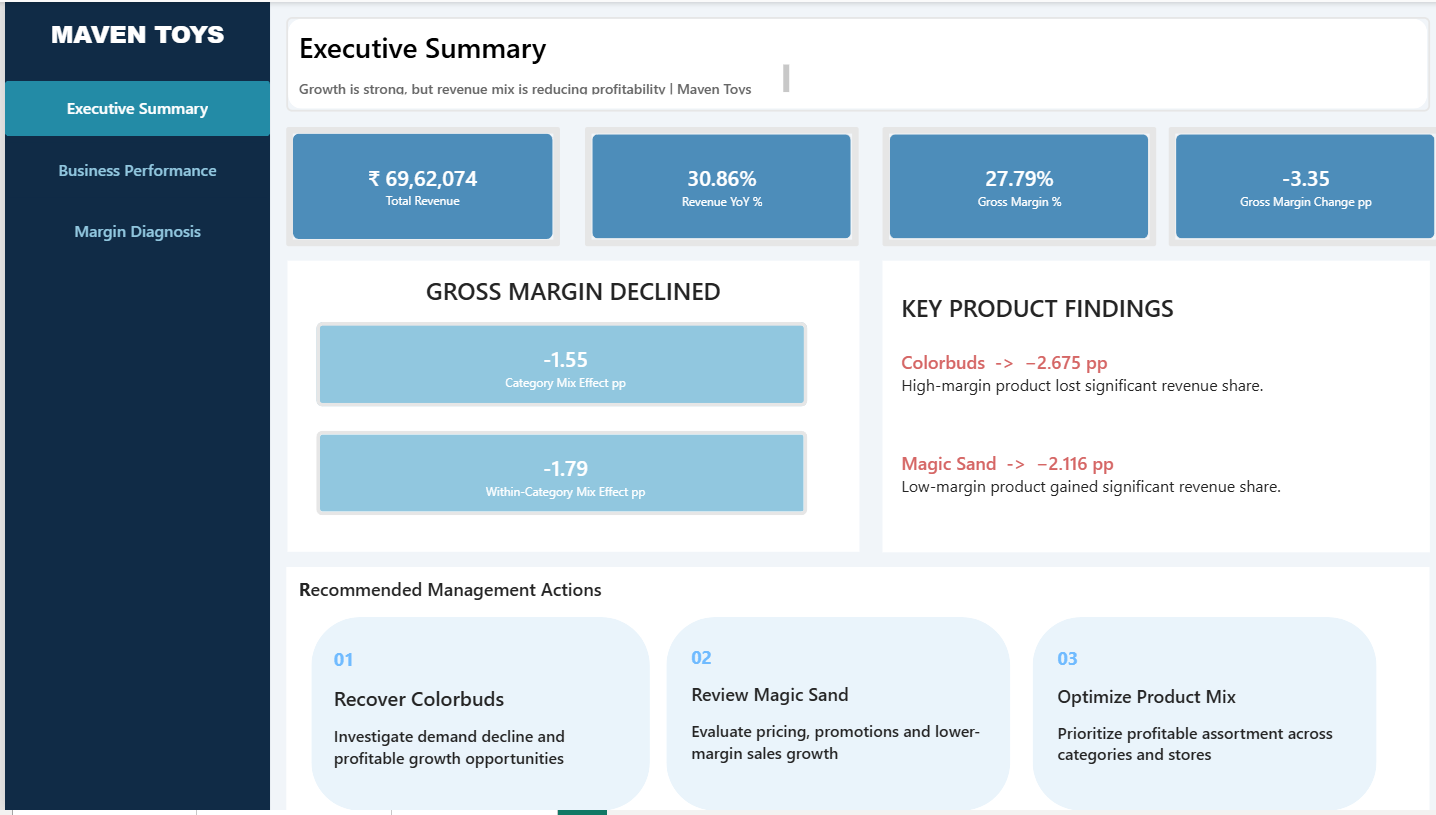

The page's visual inventory and layout, read from the dashboard file:
{"tool":"powerbi","page":{"name":"Executive Summary","canvas":[1920,1080],"ordinal":0},"visuals":[{"type":"shape","box":[0,0,354,1080.6],"z":0},{"type":"shape","box":[376.2,20.7,1527.7,126.1],"z":1000},{"type":"cardVisual","fields":{"Data":["Measures (2).Total Revenue"]},"box":[376.2,167.4,365.9,159.2],"z":2000},{"type":"cardVisual","fields":{"Data":["Measures (2).Revenue YoY %"]},"box":[775.2,167.4,365.9,159.2],"z":3000},{"type":"cardVisual","fields":{"Data":["Measures (2).Gross Margin Change pp"]},"box":[1554.5,167.4,365.9,159.2],"z":4000},{"type":"cardVisual","fields":{"Data":["Measures (2).Gross Margin %"]},"box":[1172.1,167.4,365.9,159.2],"z":5000},{"type":"textbox","title":"GROSS MARGIN DECLINED","box":[376.7,345.8,763.6,389],"z":6000},{"type":"cardVisual","fields":{"Data":["Measures (2).Category Mix Effect pp"]},"box":[415.8,428.1,656.6,113.2],"z":6001},{"type":"cardVisual","fields":{"Data":["Measures (2).Within-Category Mix Effect pp"]},"box":[416.2,572.8,656.6,113.2],"z":6002},{"type":"shape","box":[1172.4,346.2,731.5,389.4],"z":6003},{"type":"textbox","box":[1197.2,366.8,682,344.1],"z":6004},{"type":"shape","box":[376.4,754.6,1527.4,325.7],"z":6006},{"type":"textbox","box":[392.7,767.3,747.4,54.3],"z":6007},{"type":"shape","box":[409,821.6,452.4,258.8],"z":6008},{"type":"shape","box":[883.1,821.6,459.7,258.8],"z":6009},{"type":"shape","box":[1371.7,821.6,459.7,258.8],"z":6010},{"type":"textbox","box":[436.1,841.5,390.9,226.2],"z":6011},{"type":"textbox","box":[436.1,841.5,390.9,226.2],"z":6012},{"type":"textbox","box":[439.7,843.3,390.9,226.2],"z":6013},{"type":"textbox","box":[917.5,839.7,390.9,226.2],"z":6014},{"type":"textbox","box":[1406.1,841.5,399.9,226.2],"z":6015},{"type":"textbox","box":[392.7,34.4,782.2,65.9],"z":6016},{"type":"textbox","box":[392.7,83.2,655.1,39.8],"z":6017},{"type":"textbox","title":"MAVEN TOYS","box":[0,19.9,354,51.5],"z":6018},{"type":"pageNavigator","box":[0,105,354,240.8],"z":6019}]}

Visuals, with their boxes on the page's 1920x1080 design canvas (x1, y1, x2, y2). These are canvas units, not pixel positions in the 1436x815 screenshot, which may show the page scaled, cropped or inside an application window:
shape: <box>0,0,354,1081</box>
shape: <box>376,21,1904,147</box>
cardVisual - Measures (2).Total Revenue: <box>376,167,742,327</box>
cardVisual - Measures (2).Revenue YoY %: <box>775,167,1141,327</box>
cardVisual - Measures (2).Gross Margin Change pp: <box>1554,167,1920,327</box>
cardVisual - Measures (2).Gross Margin %: <box>1172,167,1538,327</box>
"GROSS MARGIN DECLINED" textbox: <box>377,346,1140,735</box>
cardVisual - Measures (2).Category Mix Effect pp: <box>416,428,1072,541</box>
cardVisual - Measures (2).Within-Category Mix Effect pp: <box>416,573,1073,686</box>
shape: <box>1172,346,1904,736</box>
textbox: <box>1197,367,1879,711</box>
shape: <box>376,755,1904,1080</box>
textbox: <box>393,767,1140,822</box>
shape: <box>409,822,861,1080</box>
shape: <box>883,822,1343,1080</box>
shape: <box>1372,822,1831,1080</box>
textbox: <box>436,842,827,1068</box>
textbox: <box>436,842,827,1068</box>
textbox: <box>440,843,831,1070</box>
textbox: <box>918,840,1308,1066</box>
textbox: <box>1406,842,1806,1068</box>
textbox: <box>393,34,1175,100</box>
textbox: <box>393,83,1048,123</box>
"MAVEN TOYS" textbox: <box>0,20,354,71</box>
pageNavigator: <box>0,105,354,346</box>
